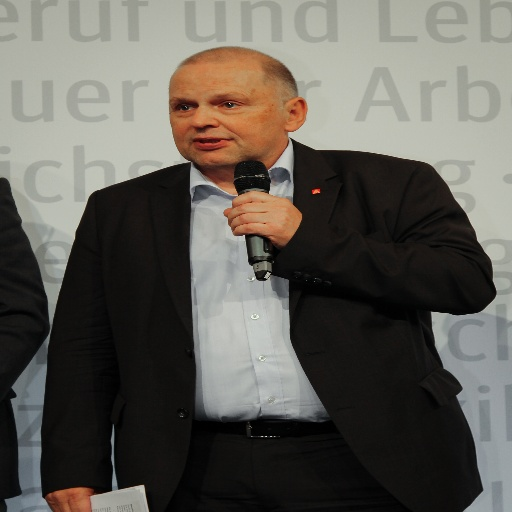hand: (223, 188, 318, 250), (43, 486, 93, 511)
